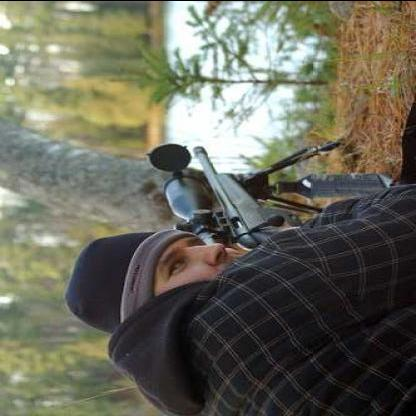rifle: (164, 137, 338, 255)
